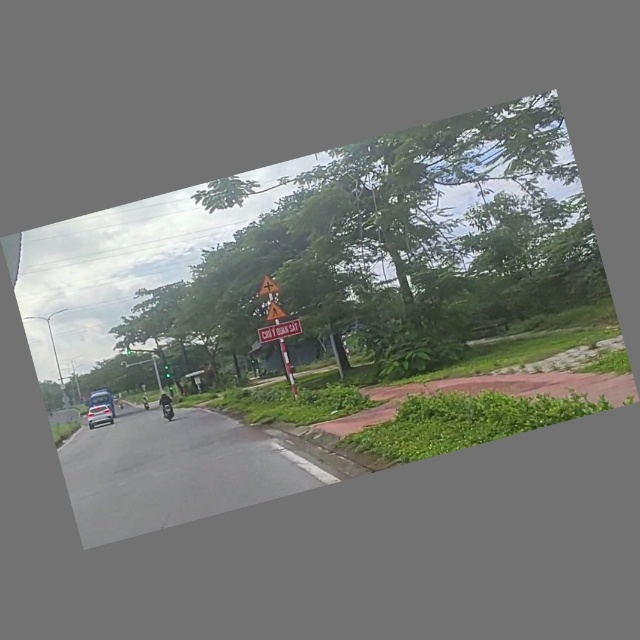W.205a: (255, 273, 282, 297)
W.224: (261, 296, 291, 324)
